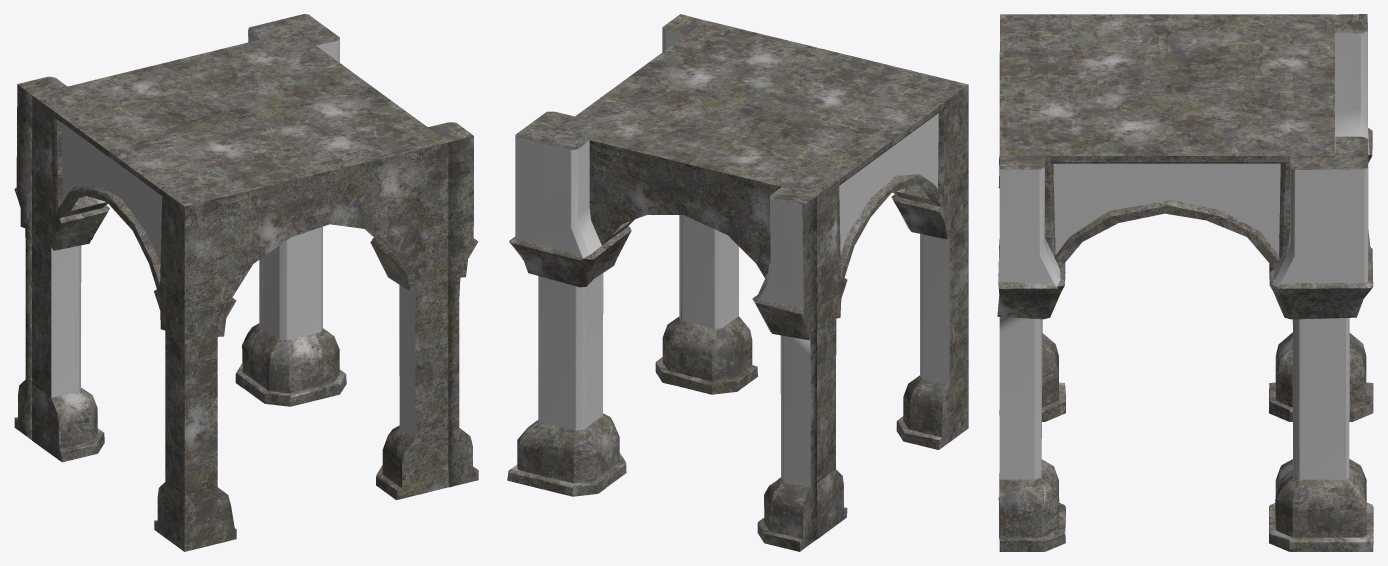
Rendered from SM_Arch_Walkway_Corner_B.fbx.
3 renders of one model, left to right at view 1: azimuth 30°, elevation 25°; view 2: azimuth 150°, elevation 25°; view 3: azimuth 270°, elevation 25°, orthographic. The views are drawn at different scales.
Parts seen in each view (by area): view 1: SM_Arch_Walkway_Corner_B_LOD0; view 2: SM_Arch_Walkway_Corner_B_LOD0; view 3: SM_Arch_Walkway_Corner_B_LOD0.
Part boxes in pixels (x1=…): SM_Arch_Walkway_Corner_B_LOD0: x1=14, y1=14, x2=478, y2=551; SM_Arch_Walkway_Corner_B_LOD0: x1=507, y1=14, x2=968, y2=551; SM_Arch_Walkway_Corner_B_LOD0: x1=997, y1=14, x2=1373, y2=551.
Size of the model in its own units: 449 by 449 by 501.
